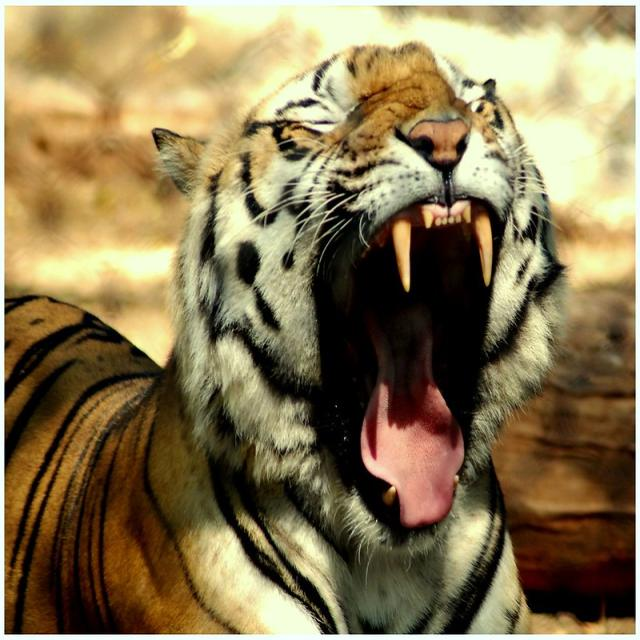Tiger: (4, 36, 576, 630)
